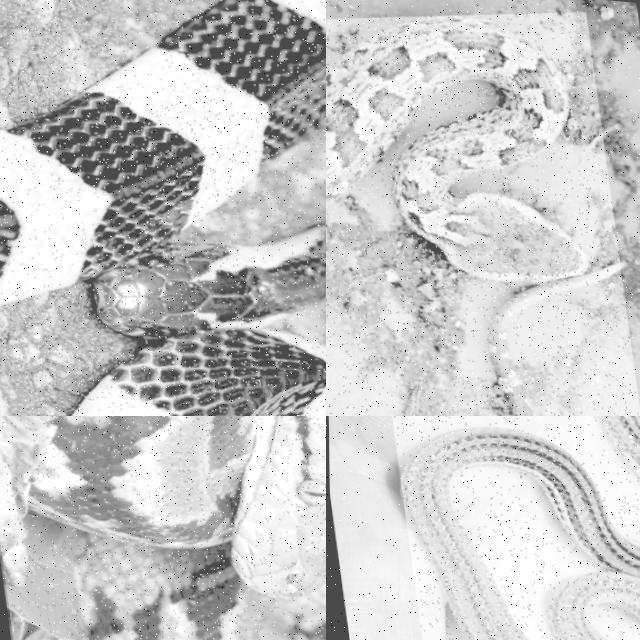Bungarus fasciatus: (0, 0, 325, 415)
Calliophis intestinalis: (401, 428, 639, 639)
Malayopython reticulatus: (30, 416, 325, 639)
Ovophis monticola: (326, 17, 620, 415)
snake: (0, 0, 325, 415), (326, 17, 620, 415), (30, 416, 325, 639), (401, 428, 639, 639)
